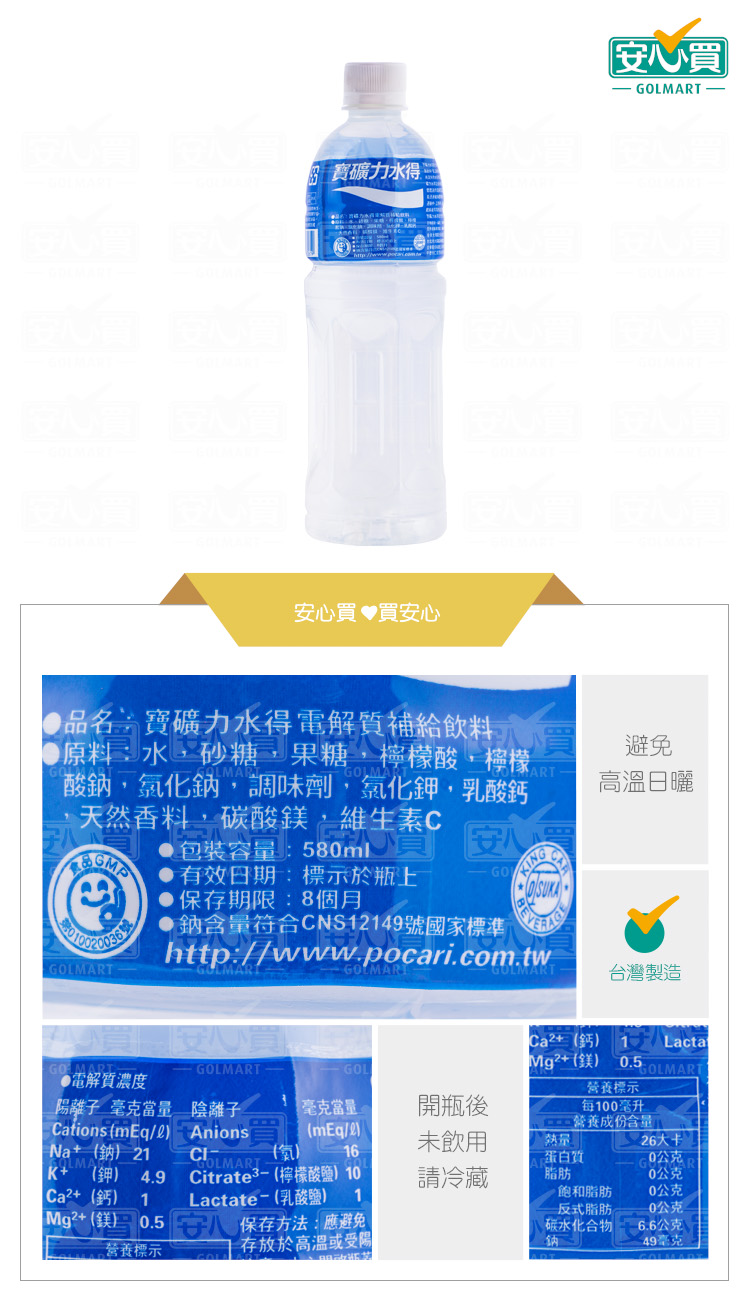POCARI SWEAT: (289, 55, 458, 549)
